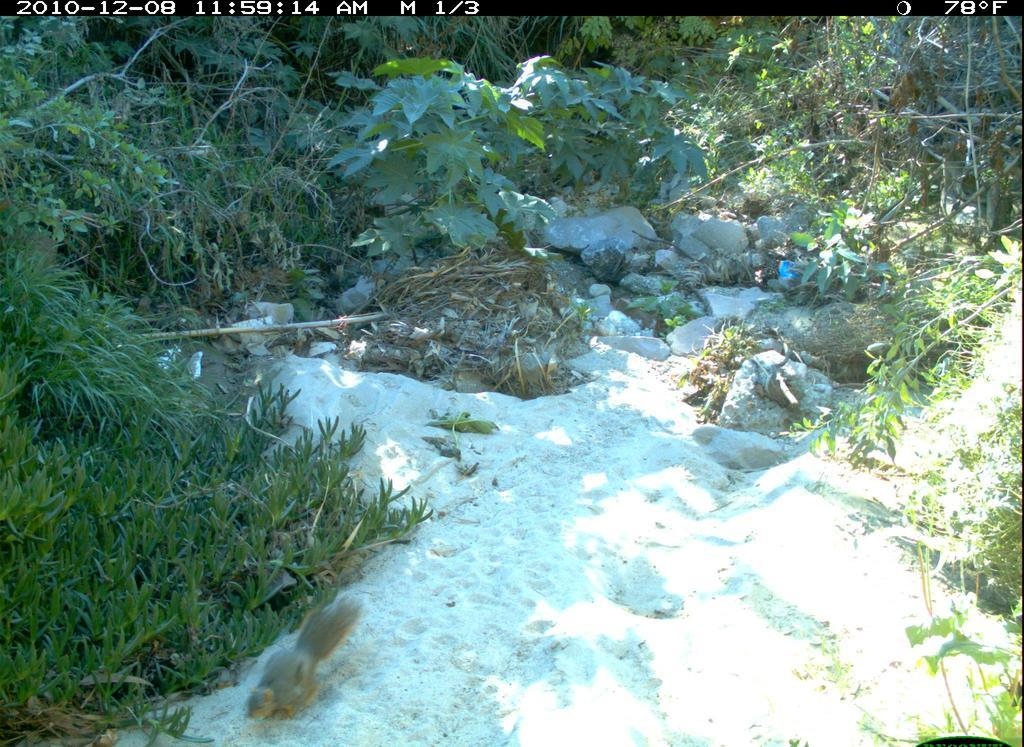squirrel: (231, 583, 373, 737)
